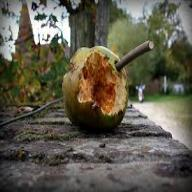apple: (60, 43, 127, 129)
